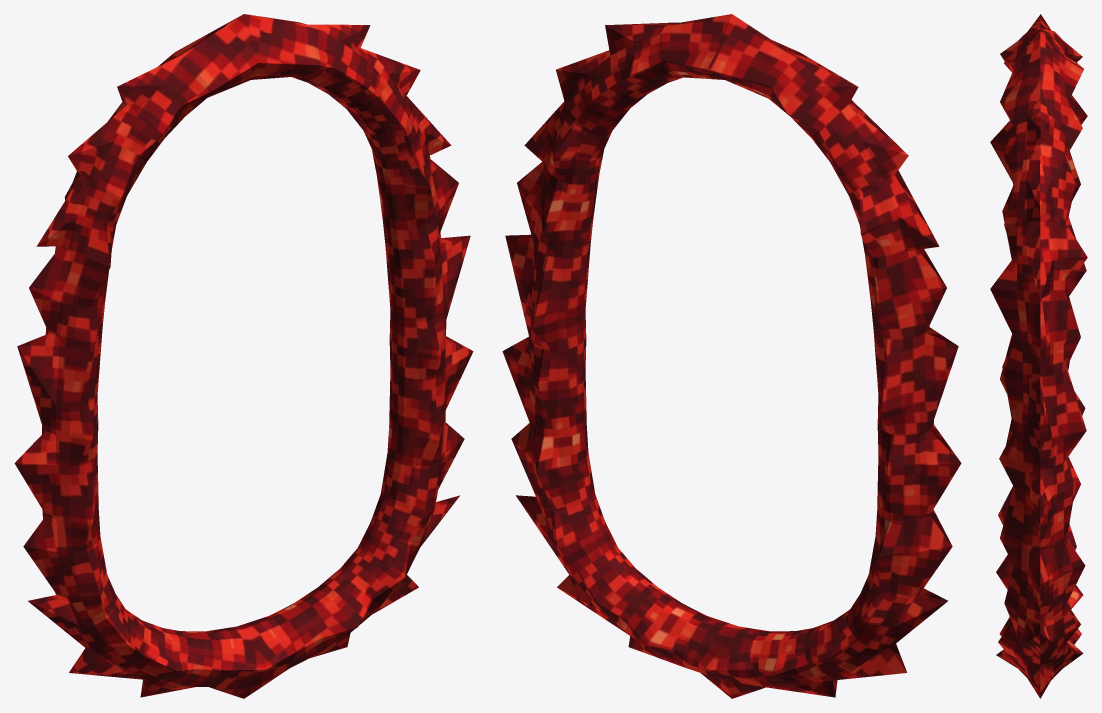
File: Portal.fbx
3 views of the same model, side by side, from view 1: azimuth 30°, elevation 25°; view 2: azimuth 150°, elevation 25°; view 3: azimuth 270°, elevation 25° (orthographic). The views are drawn at different scales.
Parts seen in each view (by area): view 1: Portal; view 2: Portal; view 3: Portal.
Boxes of the visible parts, left/top/right/bottom form: Portal: left=14, top=14, right=473, bottom=698; Portal: left=502, top=14, right=961, bottom=698; Portal: left=990, top=14, right=1087, bottom=698.
Bounding box in the file's own units: 3200 × 627 × 4563.
1 material, 1 textured.
